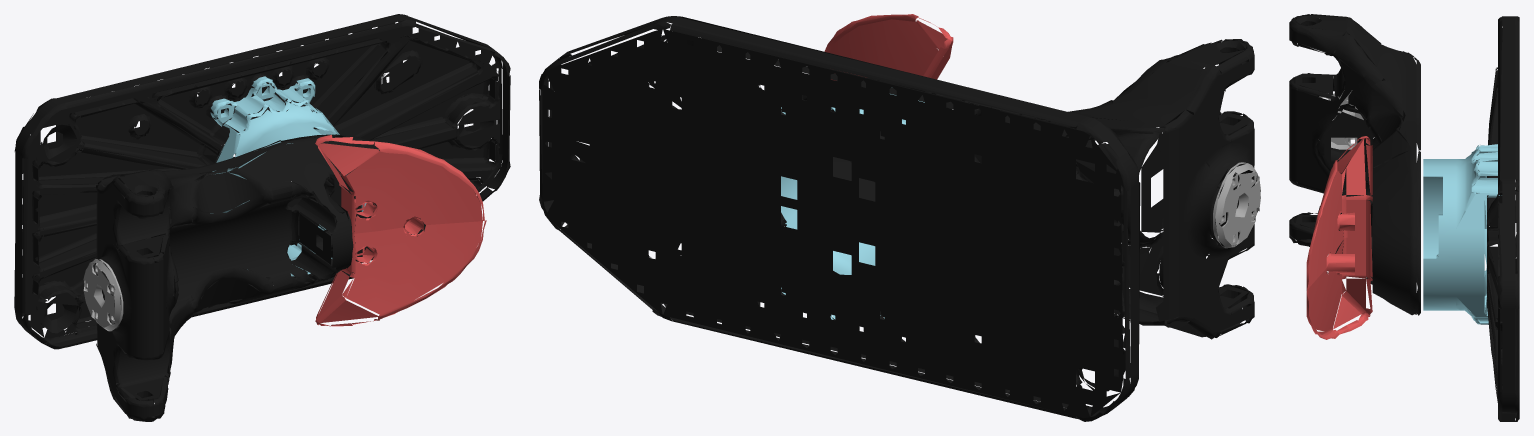
Rendered from footWFt.obj.
3 views of the same model, side by side, from view 1: azimuth 30°, elevation 25°; view 2: azimuth 150°, elevation 25°; view 3: azimuth 270°, elevation 25° (orthographic). The views are drawn at different scales.
Visible parts, largest first — view 1: stitch_result_stitch_all; view 2: stitch_result_stitch_all; view 3: stitch_result_stitch_all.
Boxes of the visible parts, x1,y1,x2,y2 form: stitch_result_stitch_all: [14, 14, 510, 421]; stitch_result_stitch_all: [539, 14, 1260, 421]; stitch_result_stitch_all: [1289, 14, 1519, 421].
Bounding box in the file's own units: 0.252 × 0.12 × 0.105.
